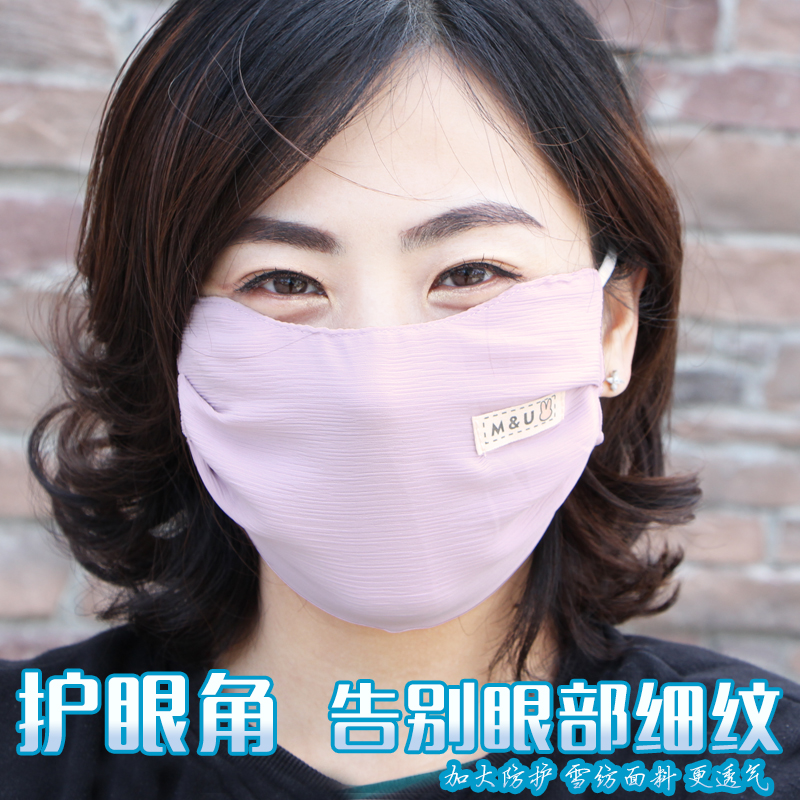mask: (181, 264, 601, 635)
